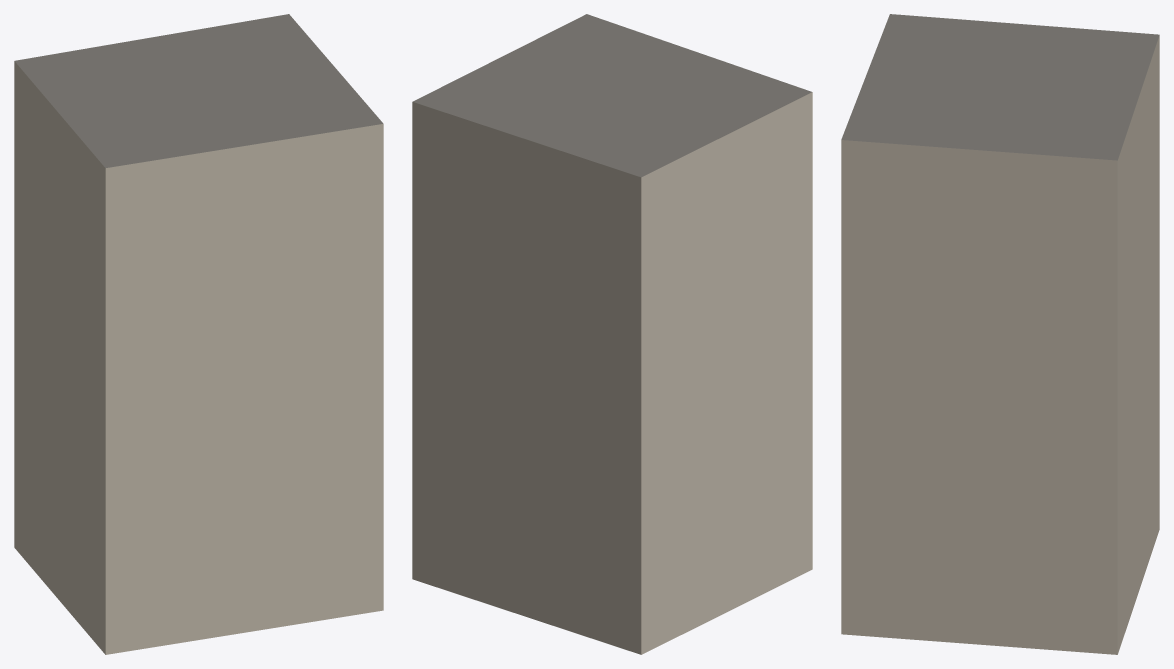
The picture shows the model from 3 angles, left to right: view 1: azimuth 30°, elevation 25°; view 2: azimuth 150°, elevation 25°; view 3: azimuth 270°, elevation 25°; orthographic projection. The views are drawn at different scales.
Visible parts, largest first — view 1: HP-w505643548; view 2: HP-w505643548; view 3: HP-w505643548.
Boxes of the visible parts, <box> form: HP-w505643548: <box>14,14,383,654</box>; HP-w505643548: <box>412,14,812,654</box>; HP-w505643548: <box>841,14,1159,654</box>.
Size of the model in its own units: 11.44 by 18 by 10.51.
